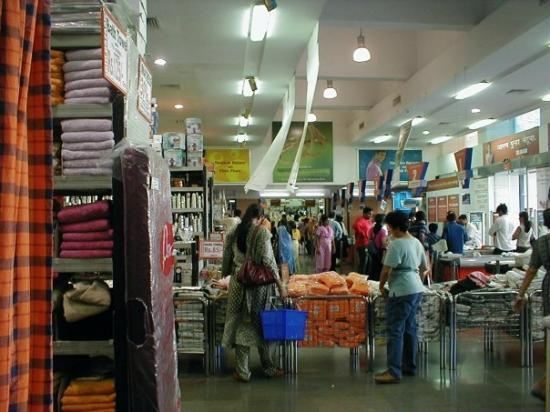Not_Face: (383, 212, 413, 240), (245, 198, 266, 227), (319, 214, 332, 227), (495, 204, 509, 216), (362, 208, 374, 220), (519, 211, 529, 224), (429, 222, 439, 234), (447, 213, 458, 223), (417, 210, 426, 222)
